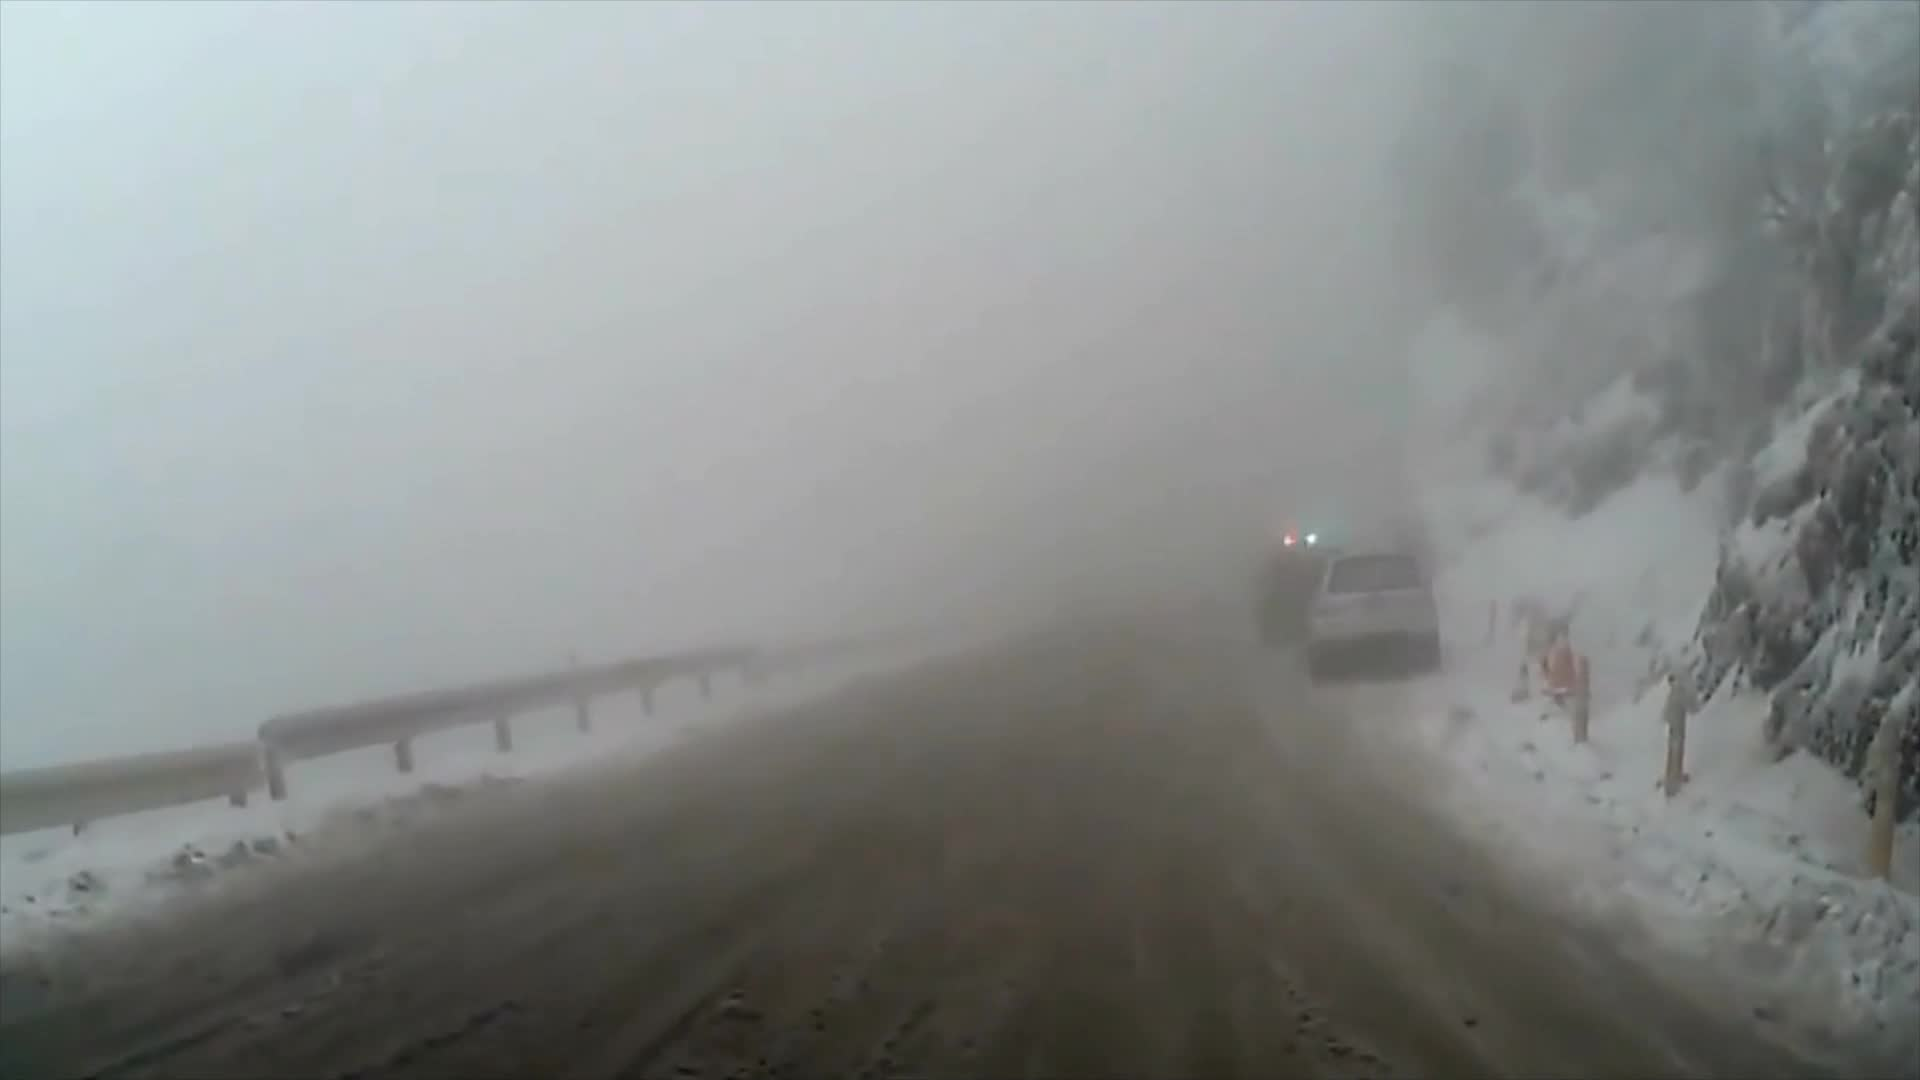vehicle: (1308, 545, 1443, 680), (1244, 542, 1357, 655)
